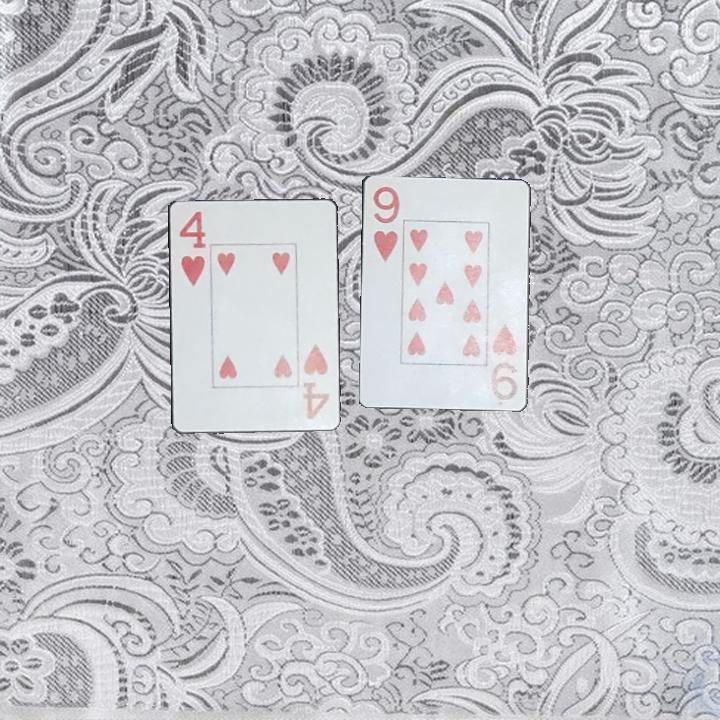4h: (175, 207, 209, 289), (299, 340, 332, 422)
9h: (485, 320, 520, 406), (369, 182, 402, 266)
